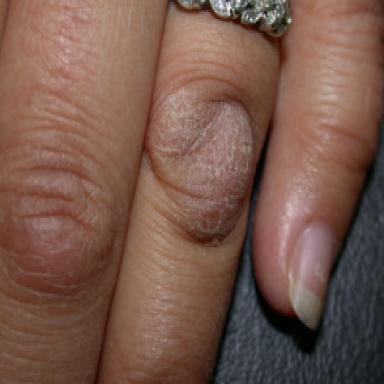eczema: (149, 90, 254, 241)
